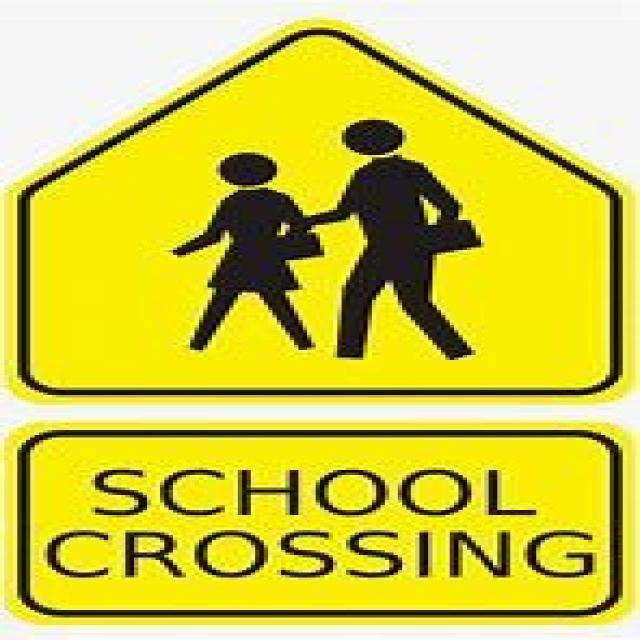school ahead: (28, 29, 617, 388)
